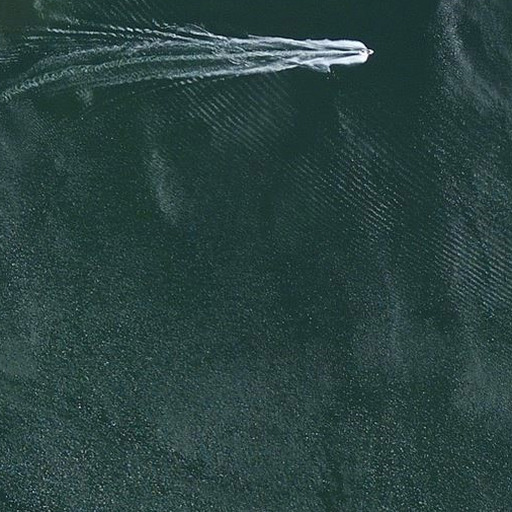ship: (348, 39, 376, 66)
